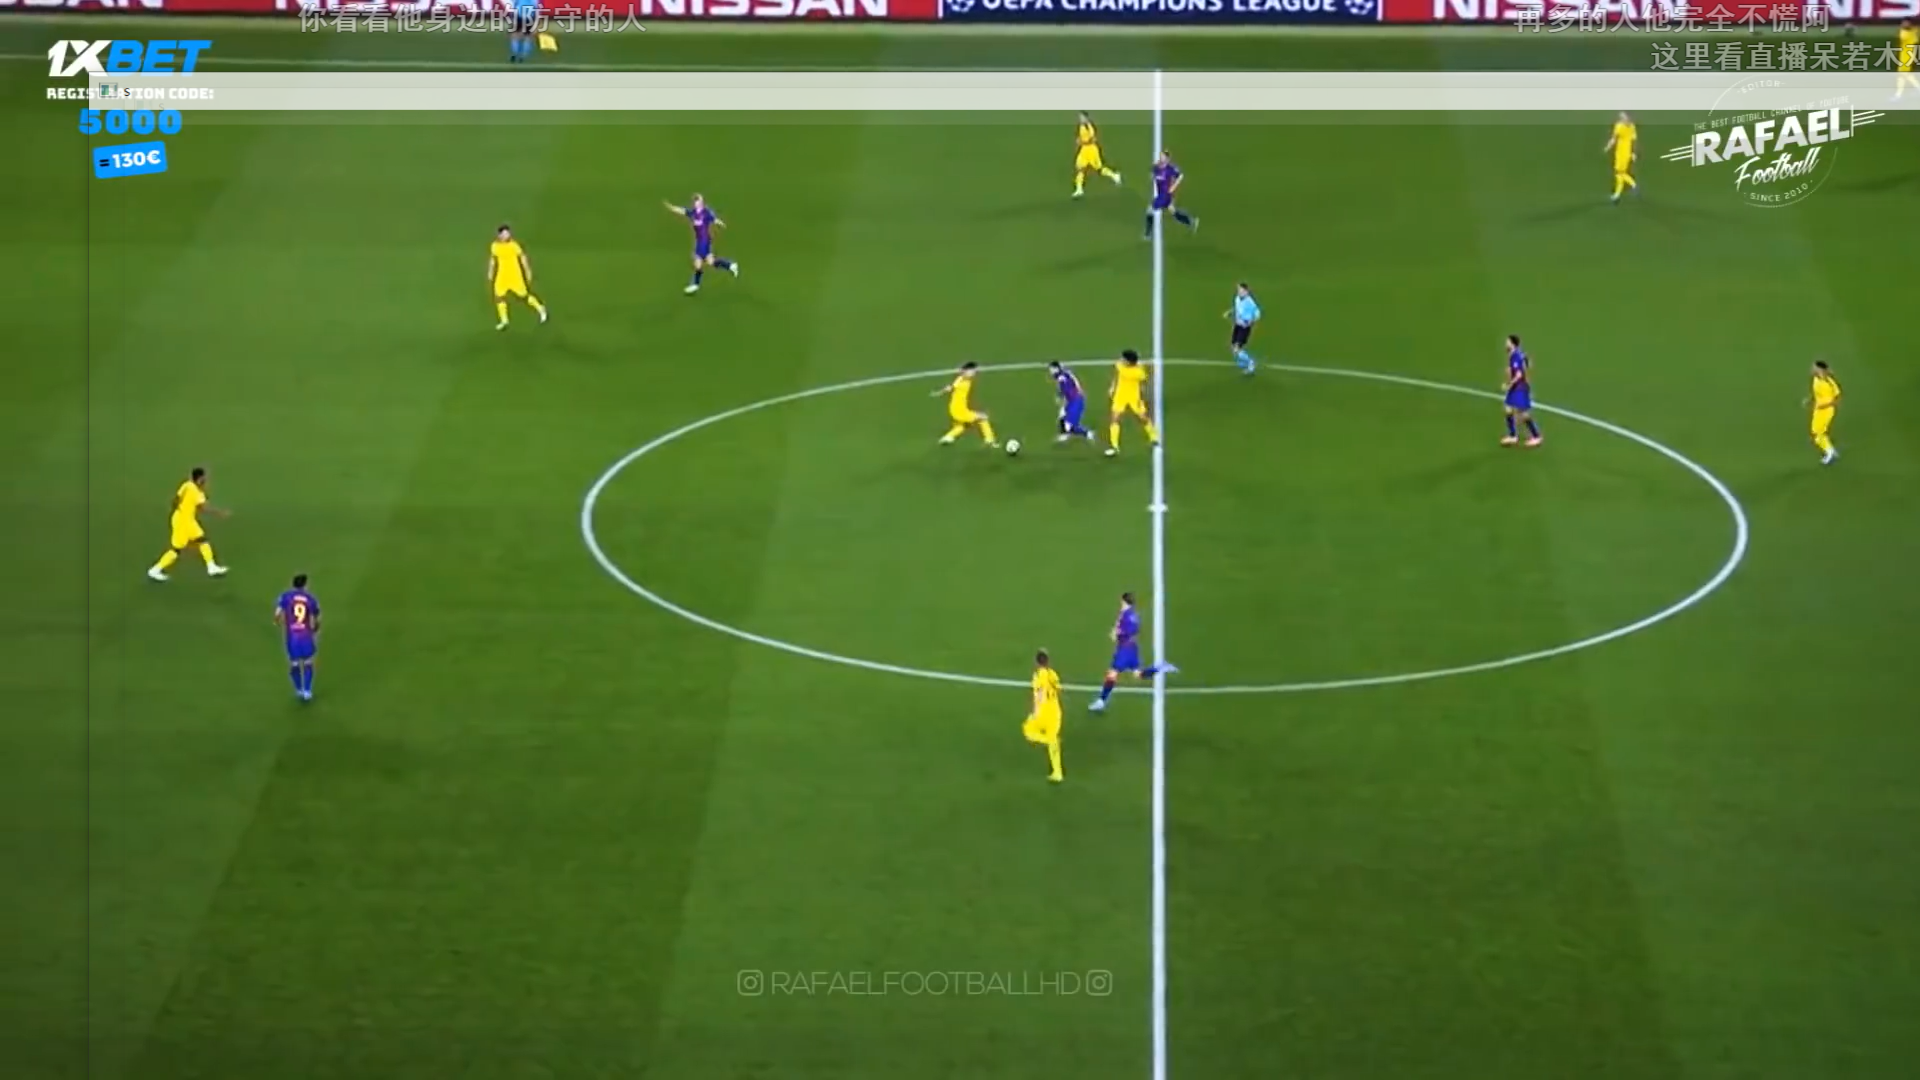ft: (1004, 436, 1021, 456)
